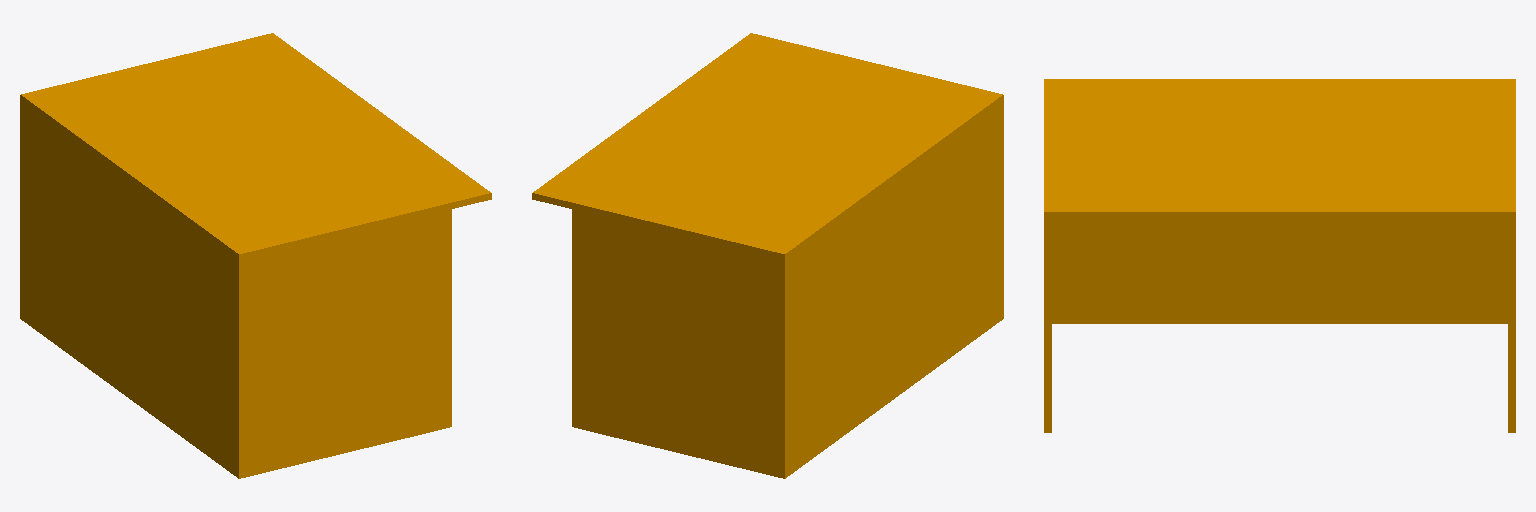
The robot description file, URDF, robot "table":
<robot name="table">
  <link name="base_link">
    <visual>
      <origin xyz="0.3 -0.83 .67"/>
      <geometry>
        <box size=".80 1.20 .02"/>
      </geometry>
    </visual>
    <visual>
      <origin xyz="0.2375 -1.42 .33"/>
      <geometry>
        <box size=".675 .02 .66"/>
      </geometry>
    </visual>
    <visual>
      <origin xyz="0.2375 -0.24 .33"/>
      <geometry>
        <box size=".675 .02 .66"/>
      </geometry>
    </visual>
    <visual>
      <origin xyz="-0.09 -0.83 .33"/>
      <geometry>
        <box size=".02 1.16 .66"/>
      </geometry>
    </visual>

    <collision>
      <origin xyz="0.3 -0.83 .67"/>
      <geometry>
        <box size=".80 1.20 .02"/>
      </geometry>
    </collision>
    <collision>
      <origin xyz="0.2375 -1.42 .33"/>
      <geometry>
        <box size=".675 .02 .66"/>
      </geometry>
    </collision>
    <collision>
      <origin xyz="0.2375 -0.24 .33"/>
      <geometry>
        <box size=".675 .02 .66"/>
      </geometry>
    </collision>
    <collision>
      <origin xyz="-0.09 -0.83 .33"/>
      <geometry>
        <box size=".02 1.16 .66"/>
      </geometry>
    </collision>
    <inertial>
      <mass value="2.2"/>
      <origin xyz="0.3 -0.83 0.65" rpy="0 0 0"/>
      <inertia ixx="0.1"  ixy="0"  ixz="0" iyy="0.1" iyz="0" izz="0.1" />
    </inertial>
  </link>
</robot>

--- What the picture shows (computed from the rendered views, not written in the file) ---
Views: 3 orthographic renders of the robot side by side, from view 1: azimuth 30°, elevation 25°; view 2: azimuth 150°, elevation 25°; view 3: azimuth 270°, elevation 25°.
Robot: table — 1 links, 0 joints (none); root link base_link; default pose: all joints at 0.
Links seen in each view (by area): view 1: base_link; view 2: base_link; view 3: base_link.
Boxes of the visible links, x1=… form: base_link: x1=20, y1=33, x2=491, y2=478; base_link: x1=532, y1=33, x2=1003, y2=478; base_link: x1=1044, y1=79, x2=1515, y2=432.
Size in the robot's own frame: 0.8 by 1.2 by 0.68 metres.
Geometry: primitives only (box / cylinder / sphere), no mesh files.